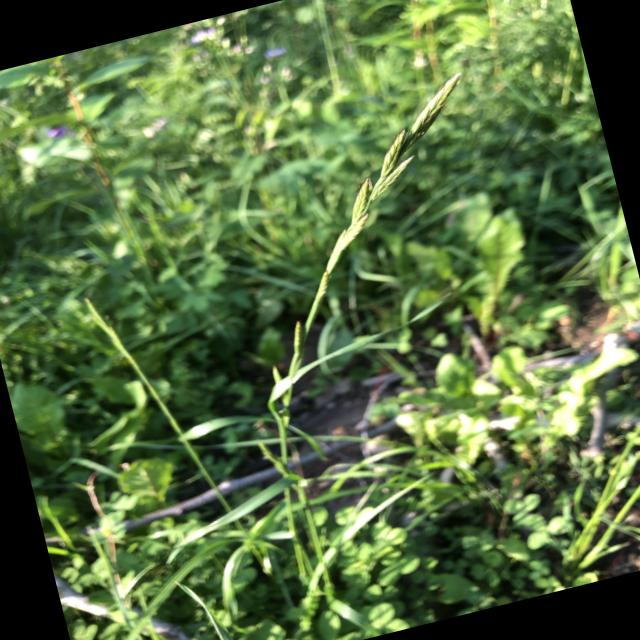Lolium: (163, 74, 562, 616)
